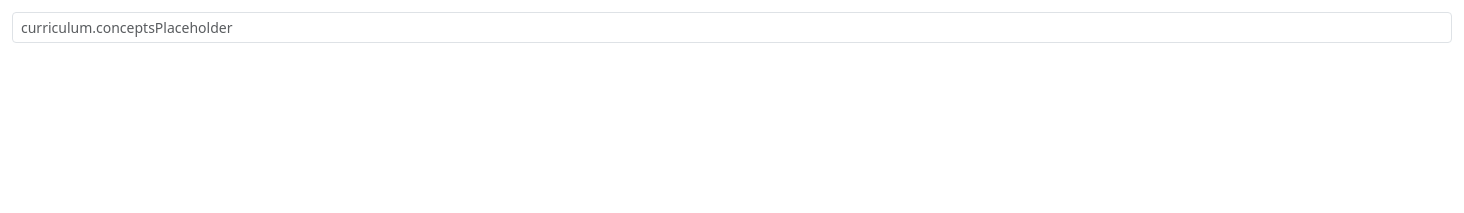
Test: ConceptPicker › offers the catalogue on focus, before anything is typed
Focus the dropdown at [732, 28], box [12,12,1452,43]
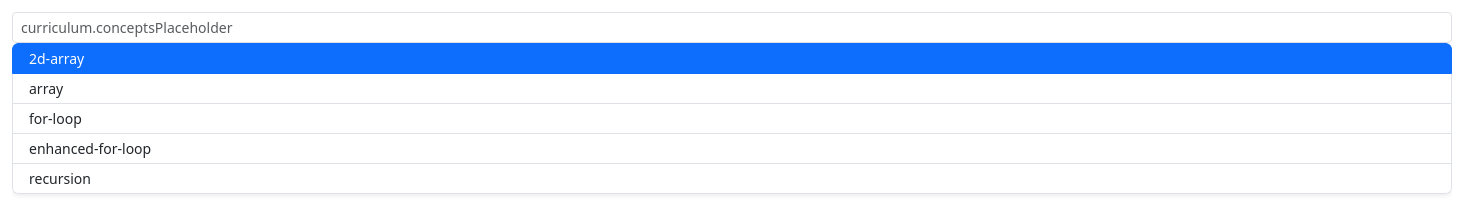
Result: the list is shown
Result: the option "array" is shown at [12,74,1452,104]
